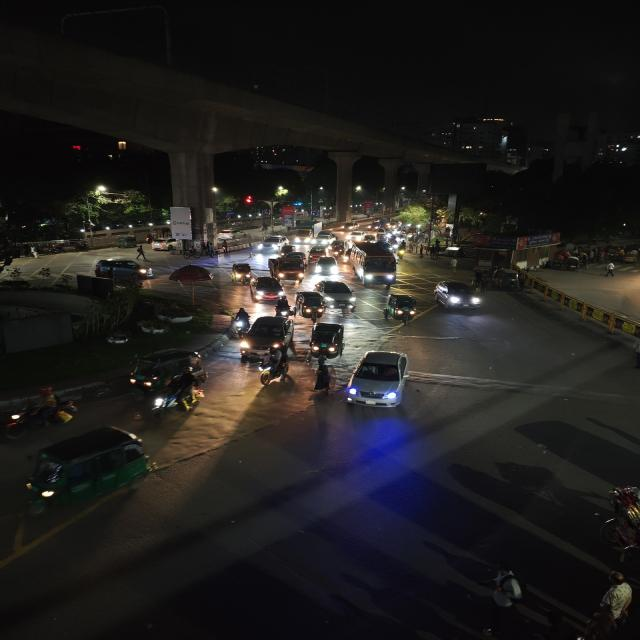bicycle: (180, 248, 206, 260)
bus: (348, 242, 400, 284)
car: (344, 348, 415, 414), (238, 316, 295, 360), (431, 278, 483, 313), (90, 254, 157, 280), (315, 278, 358, 313), (247, 274, 286, 304), (267, 256, 308, 284), (311, 255, 341, 277), (256, 235, 287, 254), (348, 231, 365, 243)
cng: (20, 424, 151, 510), (122, 345, 204, 395), (306, 322, 348, 364), (383, 292, 420, 324), (295, 290, 326, 321), (228, 261, 255, 286)
motorcycle: (148, 368, 208, 420), (257, 346, 293, 389), (227, 306, 251, 336)
pedestrian: (482, 560, 531, 612), (596, 572, 636, 632), (312, 358, 334, 394), (472, 269, 489, 291), (134, 244, 148, 263), (219, 239, 233, 256), (603, 263, 616, 278), (446, 256, 459, 270), (208, 241, 217, 259), (247, 243, 256, 260)
truck: (290, 221, 320, 245)
